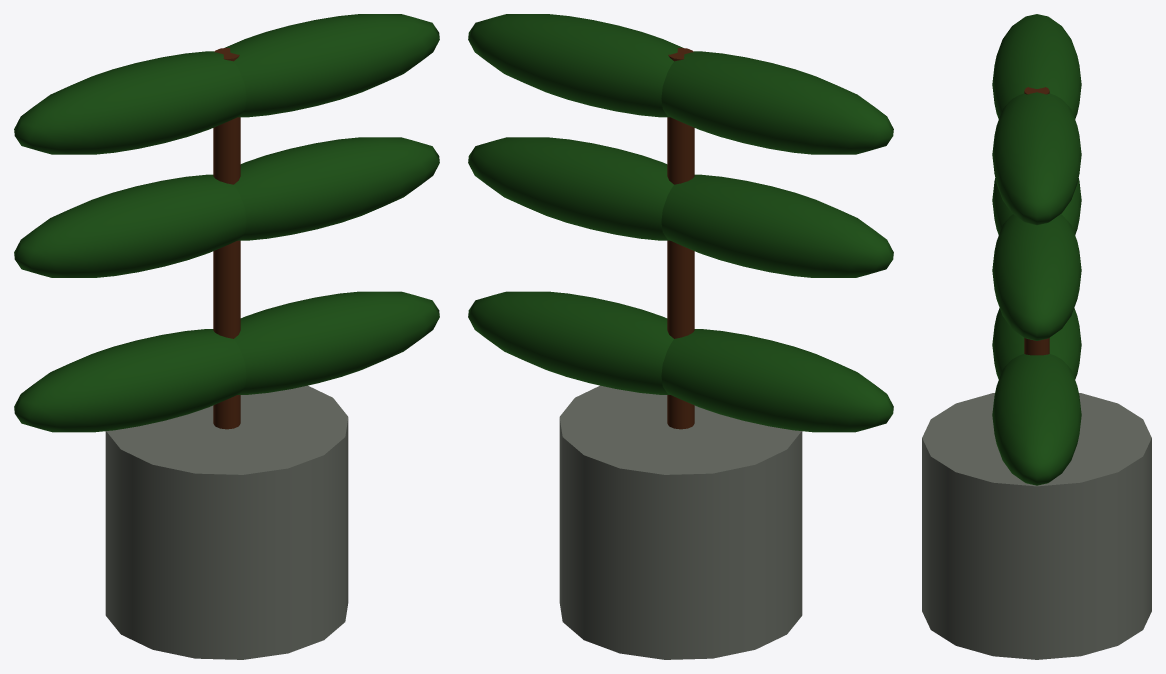
Rendered from PotPlant.fbx.
3 views of the same model, side by side, from view 1: azimuth 30°, elevation 25°; view 2: azimuth 150°, elevation 25°; view 3: azimuth 270°, elevation 25° (orthographic). The views are drawn at different scales.
Parts seen in each view (by area): view 1: PotPlant; view 2: PotPlant; view 3: PotPlant.
Part boxes in pixels (bbox=[...]): PotPlant: bbox=[14, 14, 439, 659]; PotPlant: bbox=[468, 14, 893, 659]; PotPlant: bbox=[922, 14, 1151, 659].
Bounding box in the file's own units: 72 × 36 × 91.
